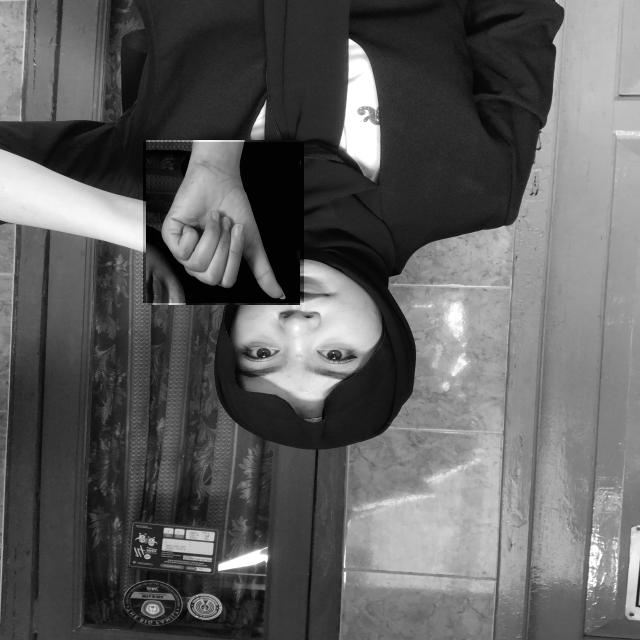sedih: (143, 142, 304, 303)
